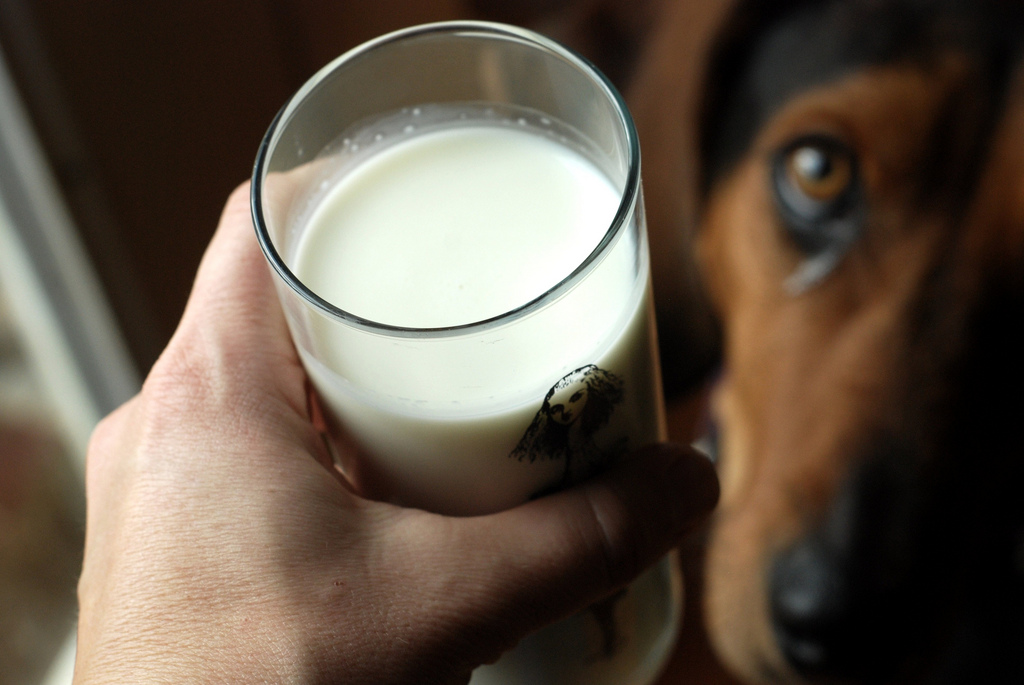glass of milk: (260, 53, 671, 475)
